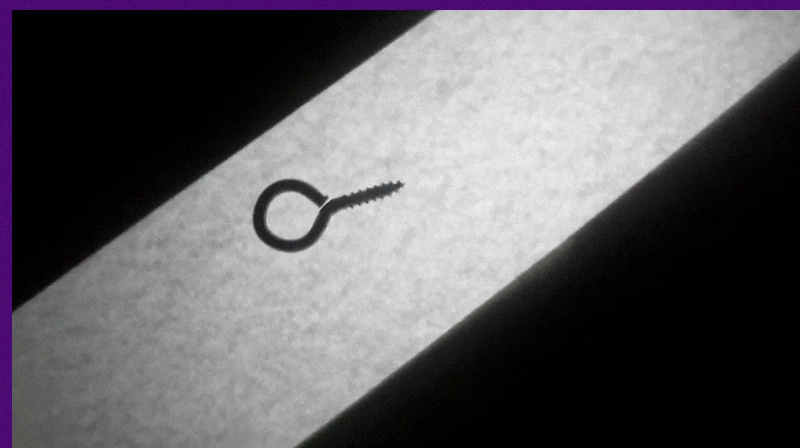O001: (249, 177, 407, 257)
